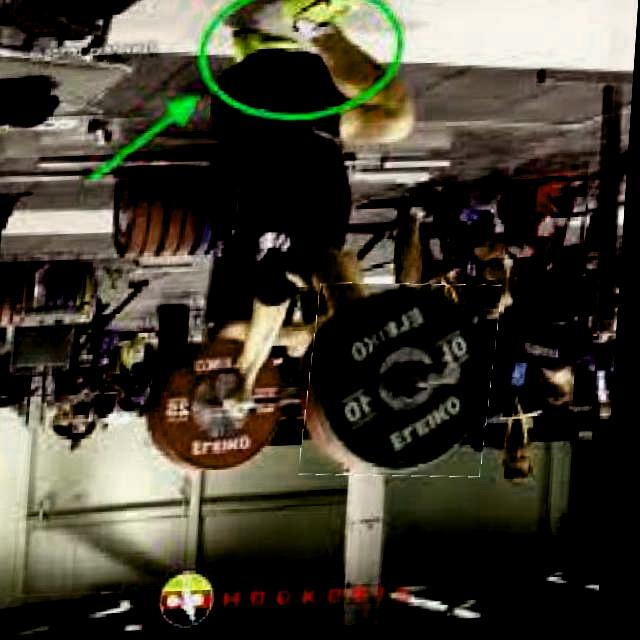barbell: (308, 283, 505, 485)
